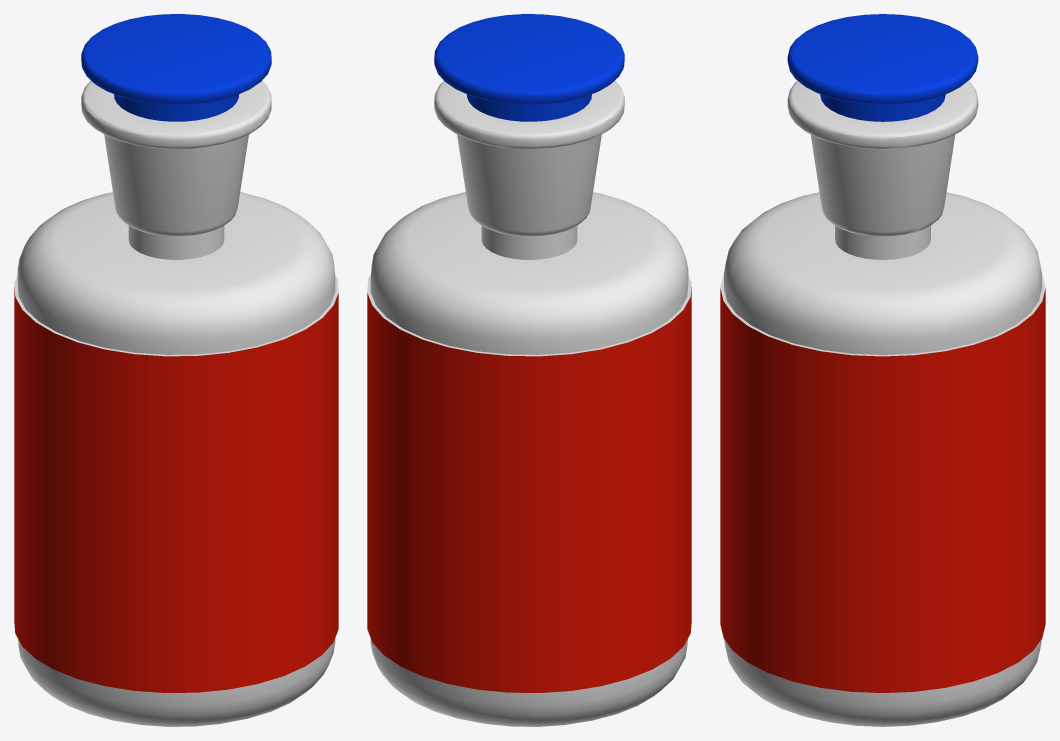
The model's file is Bottle 1.fbx.
3 views of the same model, side by side, from view 1: azimuth 30°, elevation 25°; view 2: azimuth 150°, elevation 25°; view 3: azimuth 270°, elevation 25° (orthographic).
Visible parts, largest first — view 1: Cylinder; view 2: Cylinder; view 3: Cylinder.
Boxes of the visible parts, <box> form: Cylinder: <box>14,14,338,726</box>; Cylinder: <box>367,14,691,726</box>; Cylinder: <box>720,14,1045,726</box>.
Size of the model in its own units: 204 by 430 by 204.
